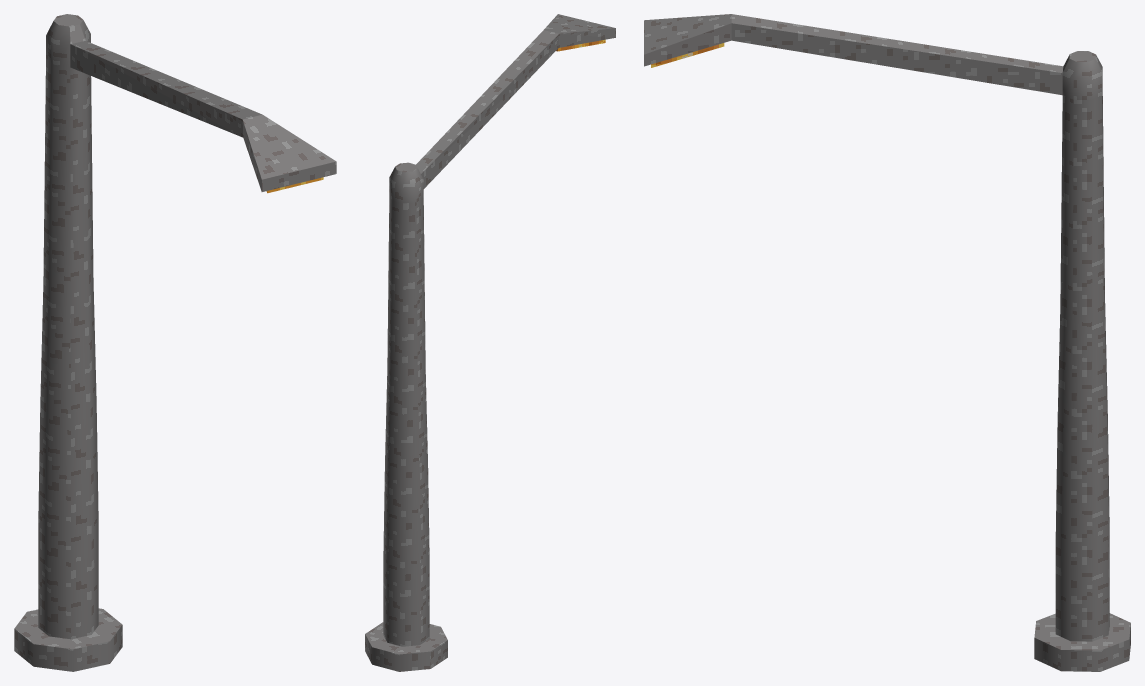
Rendered from Poste.fbx.
3 renders of one model, left to right at view 1: azimuth 30°, elevation 25°; view 2: azimuth 150°, elevation 25°; view 3: azimuth 270°, elevation 25°, orthographic. The views are drawn at different scales.
Parts seen in each view (by area): view 1: Cylinder001; view 2: Cylinder001; view 3: Cylinder001.
Boxes of the visible parts, box(x1,y1,x2,y2) form: Cylinder001: box(14, 14, 336, 671); Cylinder001: box(365, 14, 615, 671); Cylinder001: box(644, 14, 1130, 671).
Size of the model in its own units: 63.09 by 456 by 318.
3 materials, 2 textured.
